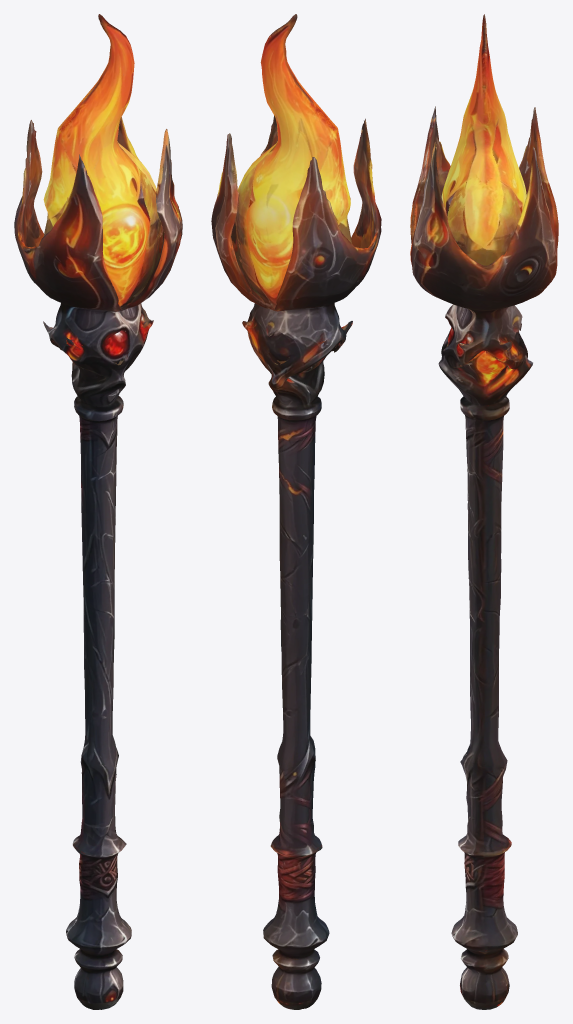
Rendered from infernal-dragonflare.glb.
3 views of the same model, side by side, from view 1: azimuth 30°, elevation 25°; view 2: azimuth 150°, elevation 25°; view 3: azimuth 270°, elevation 25° (orthographic).
Size of the model in its own units: 0.3141 by 2.01 by 0.2718.
Materials: 1 (1 with a texture image).
